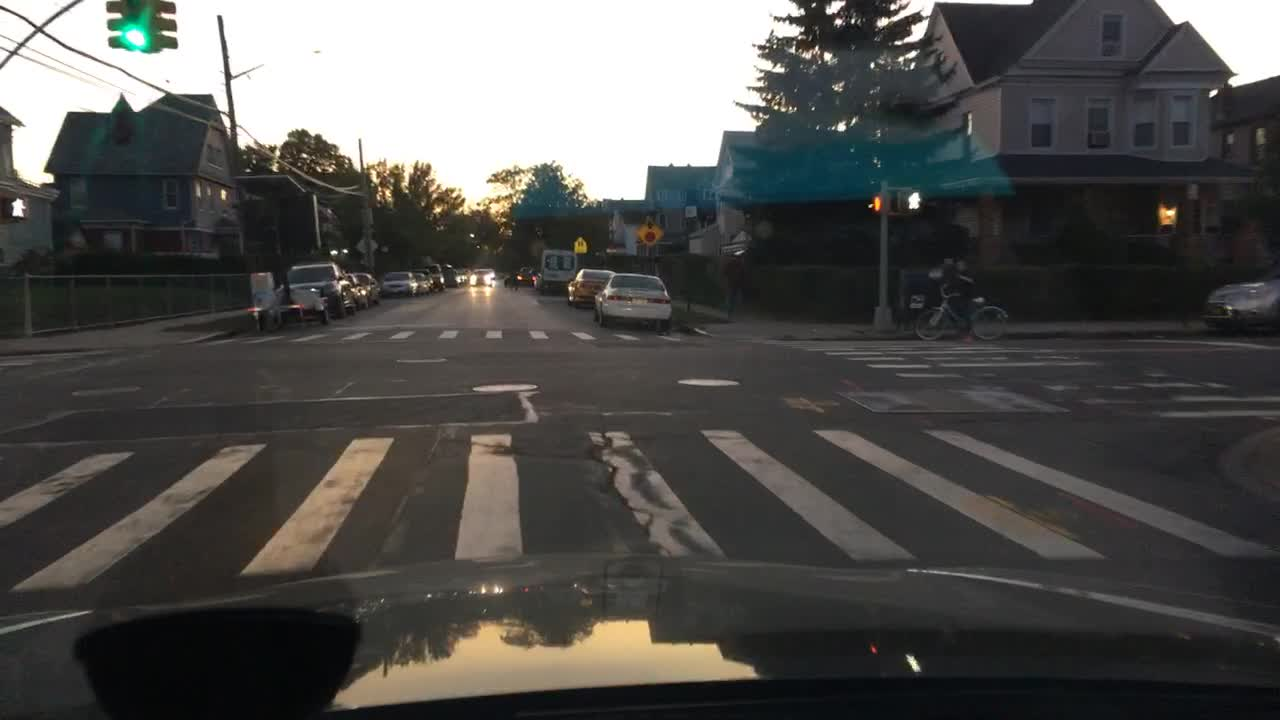bike: (911, 300, 1013, 343)
bus: (534, 247, 576, 292)
car: (248, 272, 328, 330), (592, 272, 671, 330), (289, 261, 358, 319), (1206, 279, 1277, 335), (276, 271, 354, 315), (566, 269, 613, 305), (381, 269, 418, 300), (354, 271, 384, 308), (347, 272, 371, 309), (504, 265, 540, 285), (412, 265, 436, 291), (424, 262, 446, 290), (412, 272, 434, 295), (473, 268, 496, 285), (443, 265, 458, 288), (459, 267, 471, 283)
person: (941, 258, 979, 319)
traffic light: (121, 0, 156, 54), (103, 1, 126, 46), (158, 0, 178, 51), (891, 186, 920, 214), (0, 193, 30, 218), (870, 186, 892, 213)
traffic sign: (635, 216, 665, 246), (357, 236, 378, 253), (571, 237, 591, 251), (359, 209, 374, 224), (684, 204, 697, 217), (361, 256, 374, 268), (361, 225, 374, 233)
